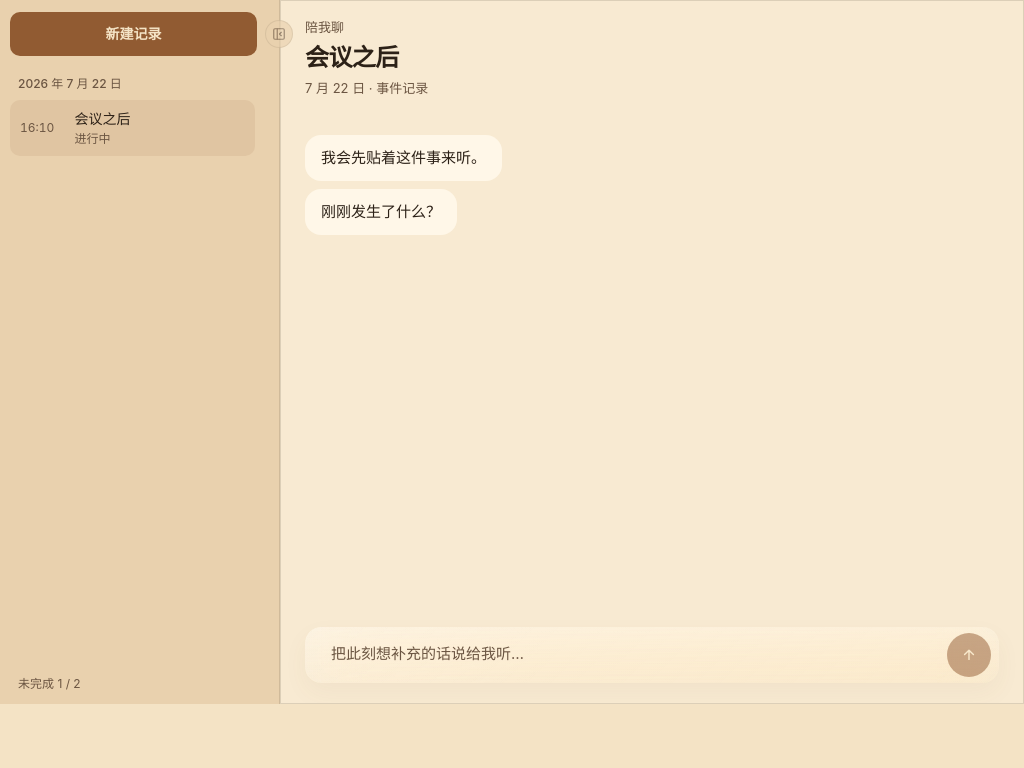
EventCenteredInterviewWorkspace › clears an accepted outbox after the user turn is visible on the server
This screenshot has width=1024, height=768.
In the text box named "输入当前事件": (652, 655) [315,633,989,677], type "服务端已经收到了这句话"
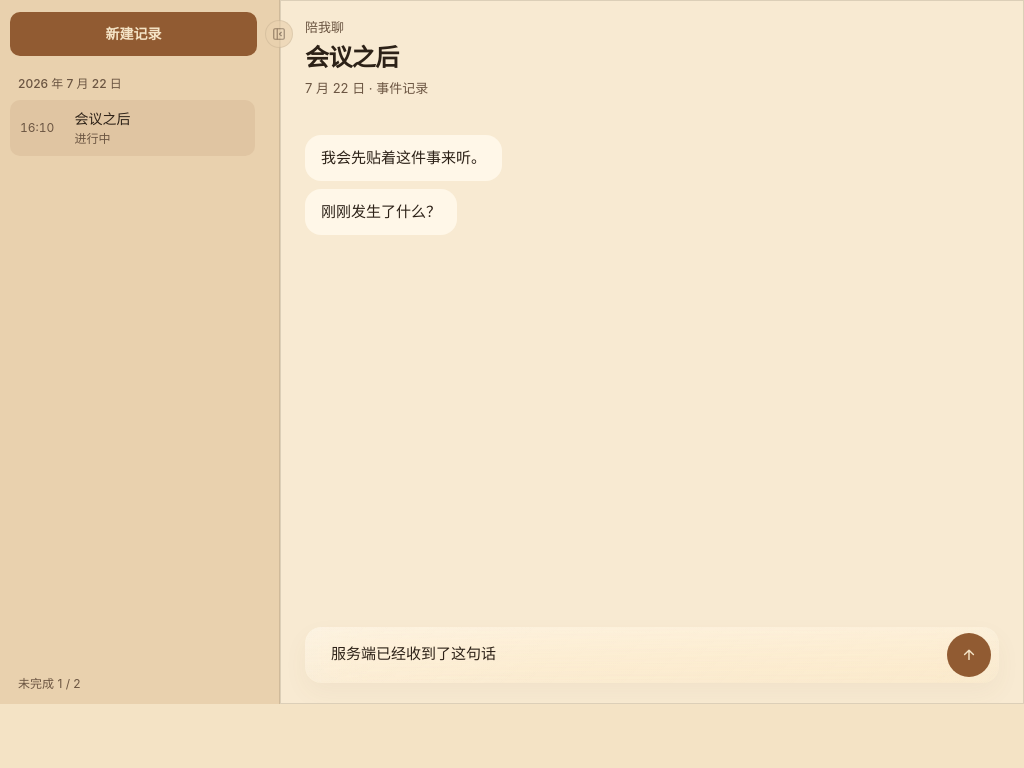
Click the button named "发送": (969, 655) [947,633,991,677]
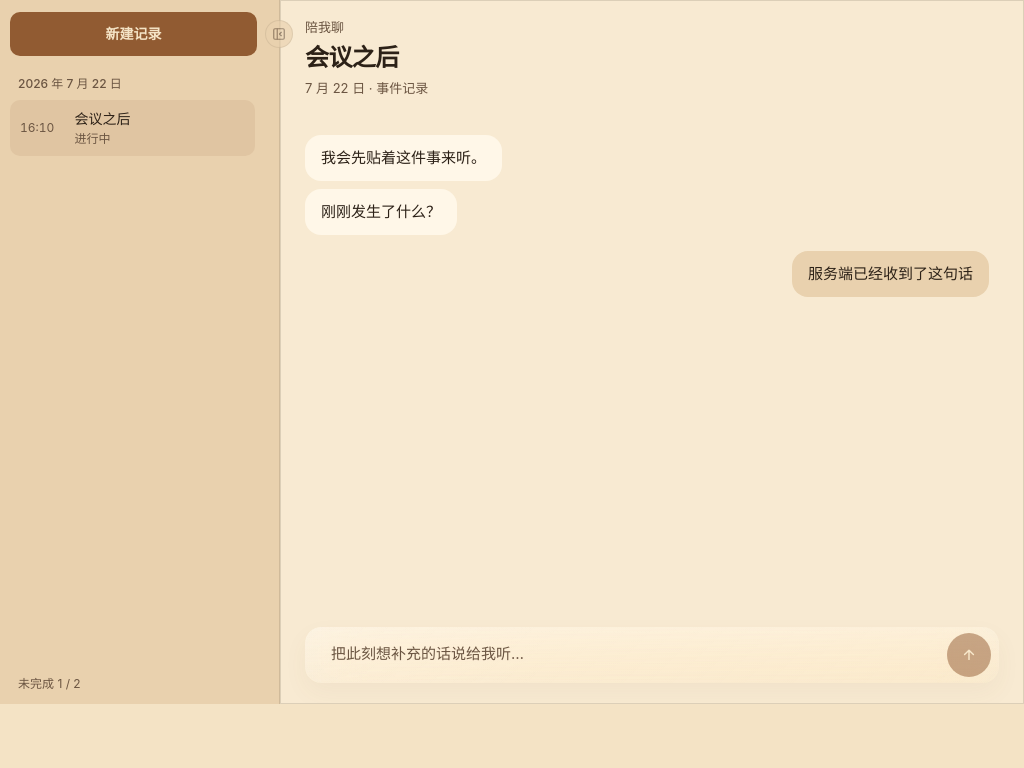
Expected: the text "服务端已经收到了这句话" is shown once, [808,261,973,287]
